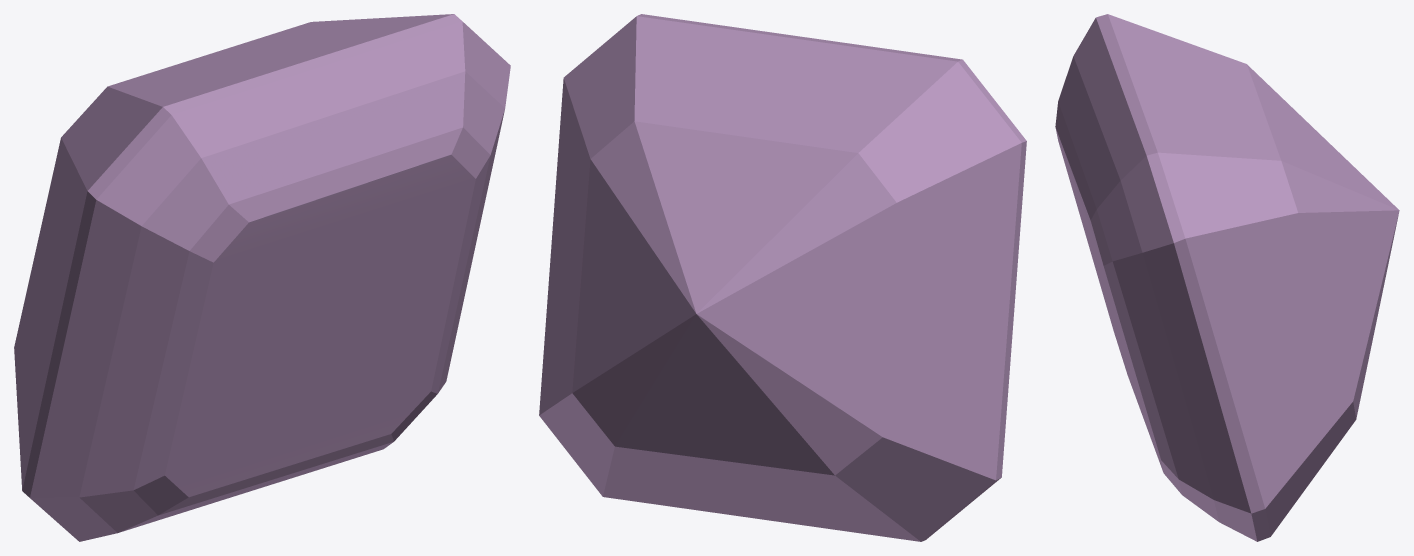
The model's file is BR1_8shapes_Square_Classic_Stone.001 2.glb.
The picture shows the model from 3 angles, left to right: view 1: azimuth 30°, elevation 25°; view 2: azimuth 150°, elevation 25°; view 3: azimuth 270°, elevation 25°; orthographic projection. The views are drawn at different scales.
Visible parts, largest first — view 1: BR1_8shapes_Square_Classic_Stone.001; view 2: BR1_8shapes_Square_Classic_Stone.001; view 3: BR1_8shapes_Square_Classic_Stone.001.
Part boxes in pixels (box(x1,y1,x2,y2)): BR1_8shapes_Square_Classic_Stone.001: box(14, 14, 510, 541); BR1_8shapes_Square_Classic_Stone.001: box(539, 14, 1026, 541); BR1_8shapes_Square_Classic_Stone.001: box(1055, 14, 1399, 541).
Size of the model in its own units: 0.4015 by 0.3849 by 0.2957.
